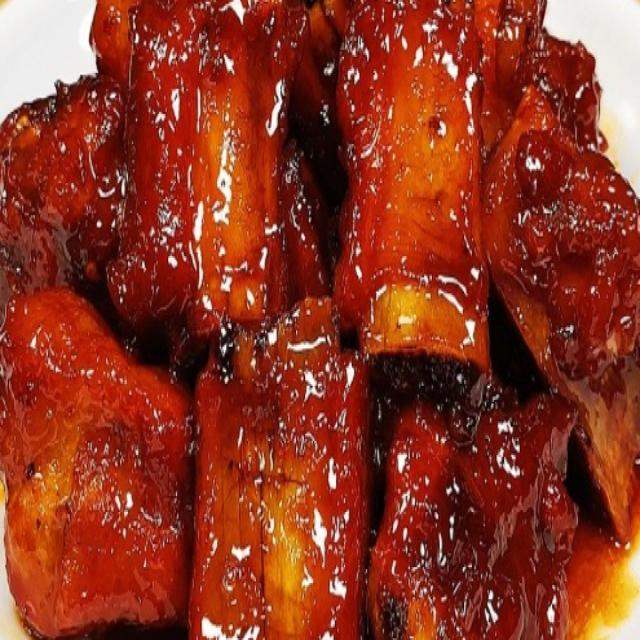suon xao: (0, 0, 639, 639)
